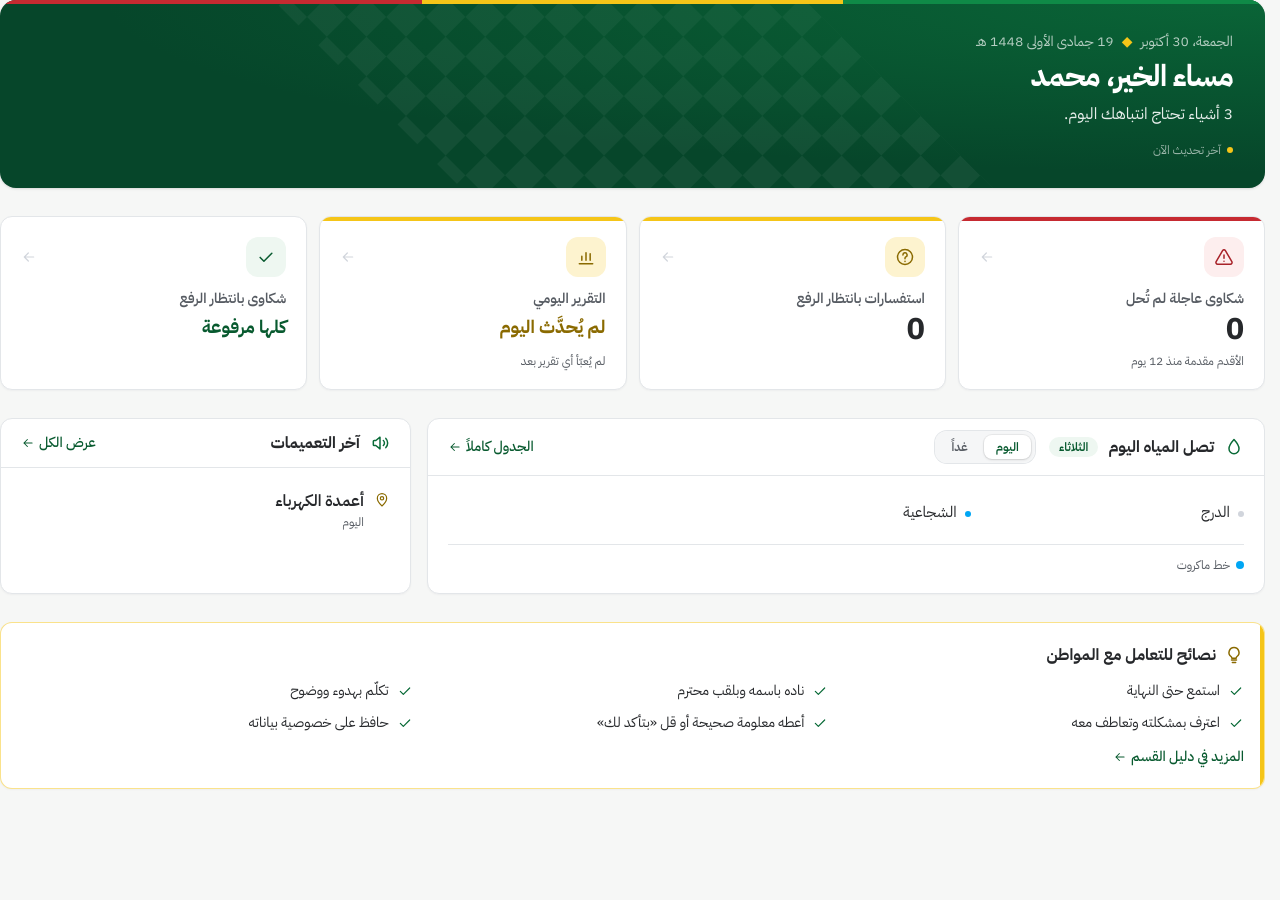
Test: HomePage («الرئيسية») › water: today by default, sorted, with the colours explained; tomorrow on demand
expect the list items read "الدرج", "الشجاعية", in this order: met, box [1201,501,1244,523]; [903,501,971,523]
expect the text "خط ماكروت" is shown: met, box [1177,557,1244,573]
Click the tab "غداً".
click(960, 447)  # box [939,435,980,459]
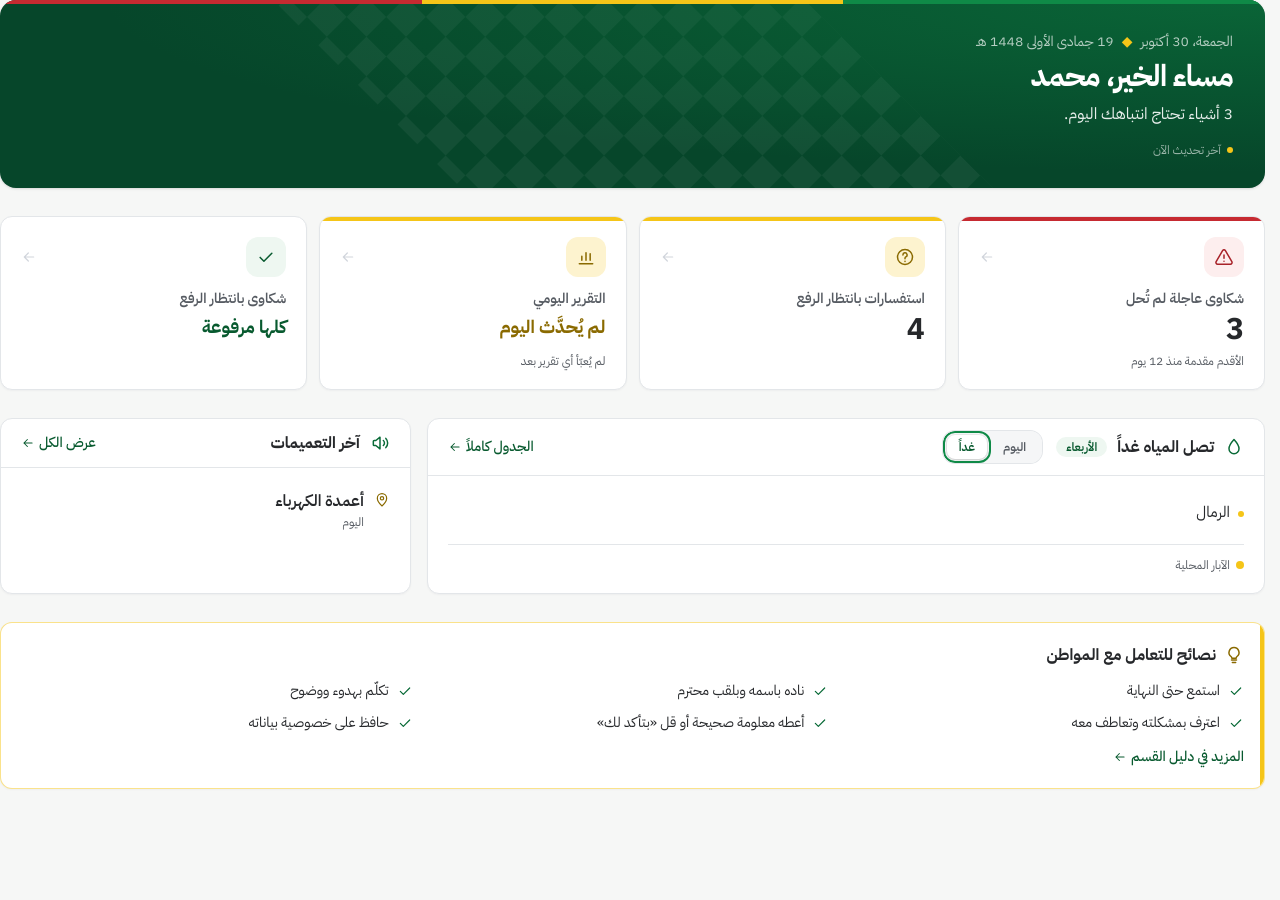
expect the text "الأربعاء" is shown: met, box [1056,437,1107,457]
expect the list item "الرمال" is shown: met, box [1196,501,1244,523]
